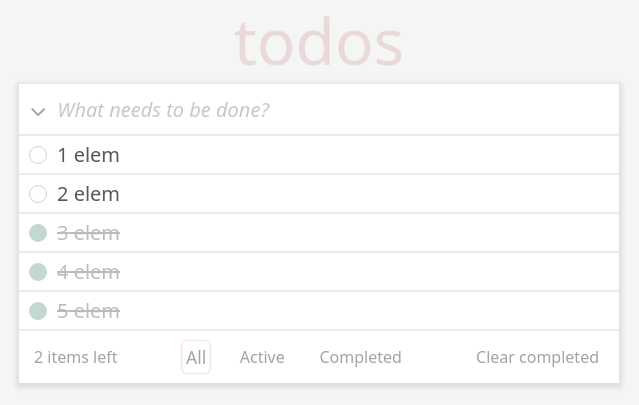
it: Tests › Remove completed todos
Expected: the number of elements with test id "todo-item" is 5, x1=19 y1=136 x2=619 y2=175; x1=19 y1=175 x2=619 y2=214; x1=19 y1=214 x2=619 y2=253; x1=19 y1=253 x2=619 y2=292; x1=19 y1=292 x2=619 y2=331
Click the text with test id "clear-completed".
click(538, 357)  # box x1=471 y1=341 x2=604 y2=373
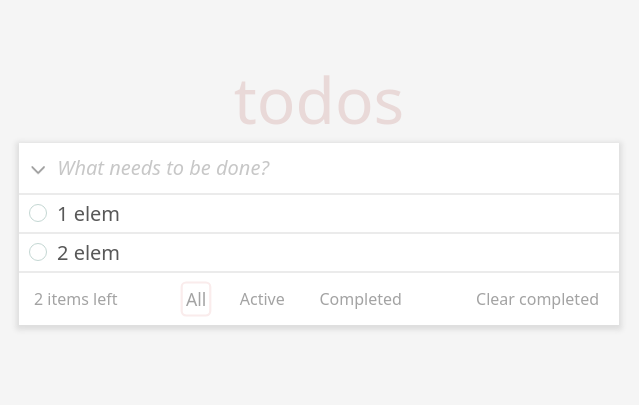
Now the number of elements with test id "todo-item" is 2, box x1=19 y1=194 x2=619 y2=234; x1=19 y1=234 x2=619 y2=272
